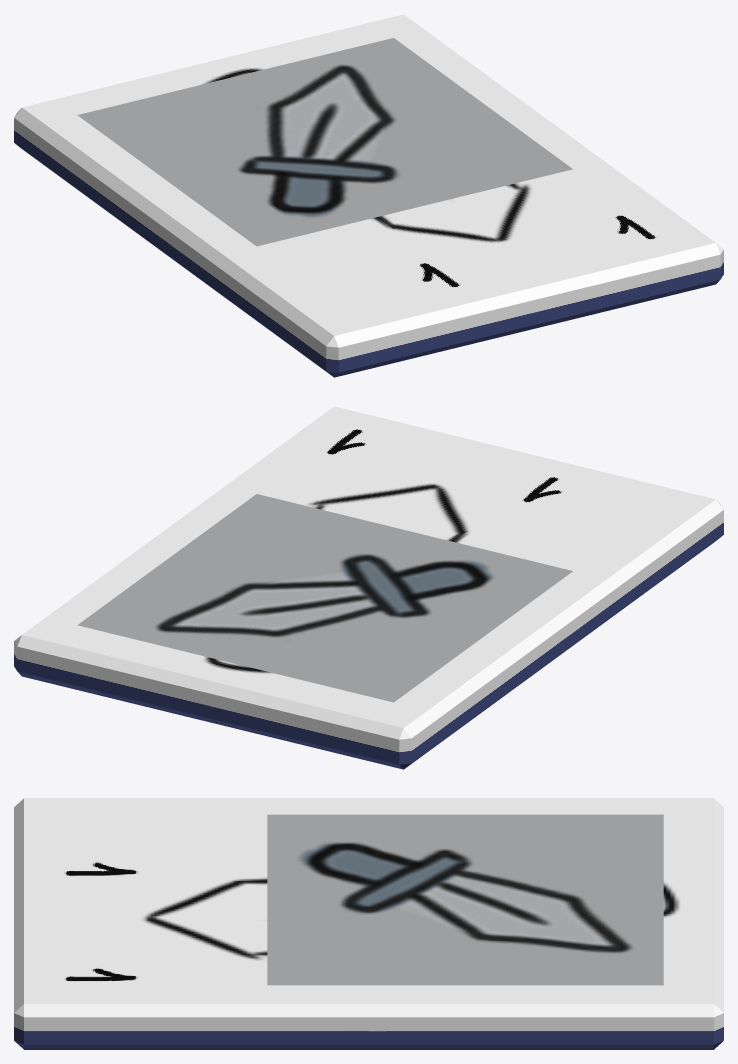
Rendered from Card.fbx.
3 renders of one model, top to bottom at view 1: azimuth 30°, elevation 25°; view 2: azimuth 150°, elevation 25°; view 3: azimuth 270°, elevation 25°, orthographic. The views are drawn at different scales.
Visible parts, largest first — view 1: Card; view 2: Card; view 3: Card.
Boxes of the visible parts, x1,y1,x2,y2 form: Card: (14, 14, 723, 377); Card: (14, 406, 723, 769); Card: (14, 798, 723, 1049).
Bounding box in the file's own units: 0.5 × 0.0512 × 0.7.
